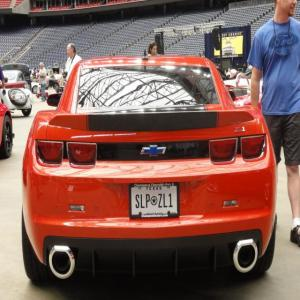Plate: (129, 182, 180, 219)
